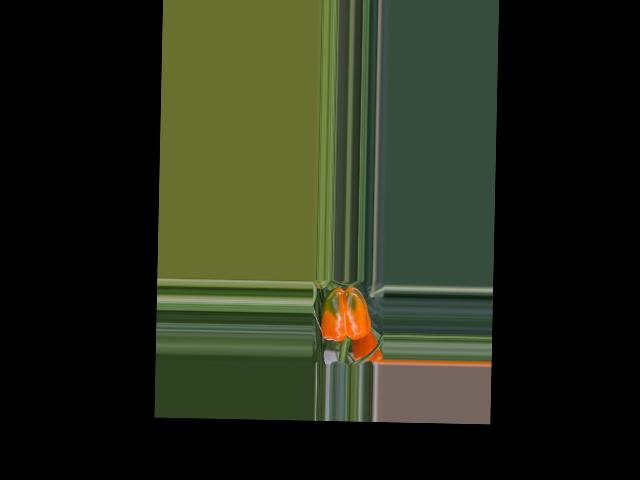bell_pepper: (313, 281, 374, 348)
